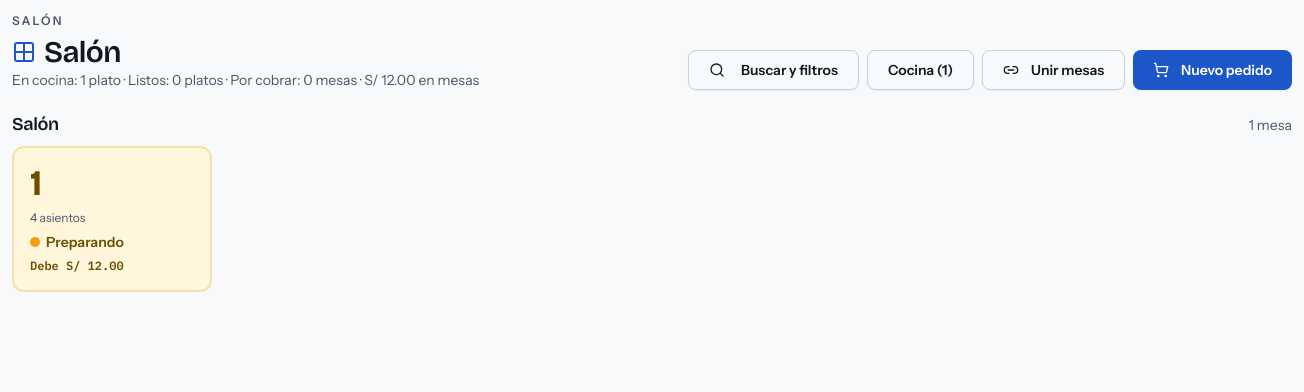
Test: pedido por personas en el salón › ordena el compositor como trabaja el mozo: persona y recién la carta
Click the element with test id "mesa-card-1".
click(112, 219)  # box [12, 146, 212, 292]
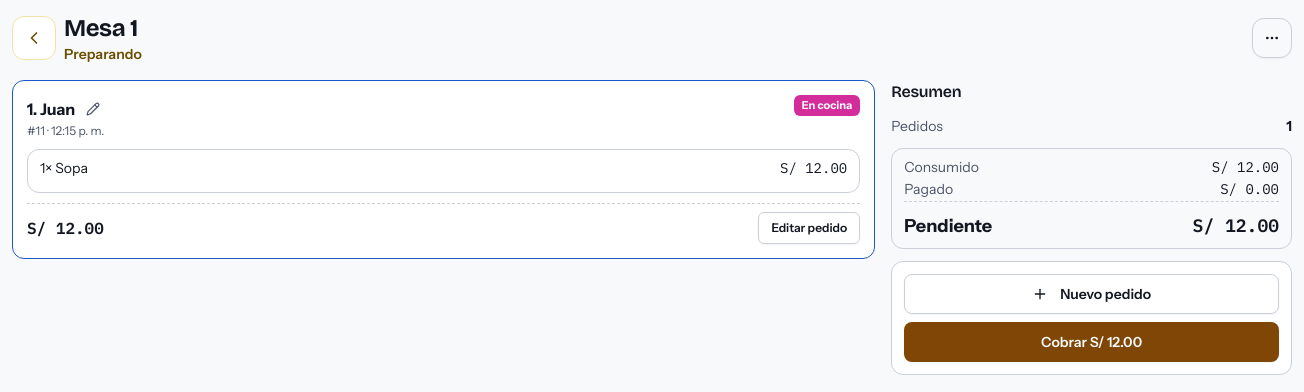
Click the button with test id "mesa-sheet-nuevo-pedido".
click(1092, 294)  # box [904, 274, 1279, 314]
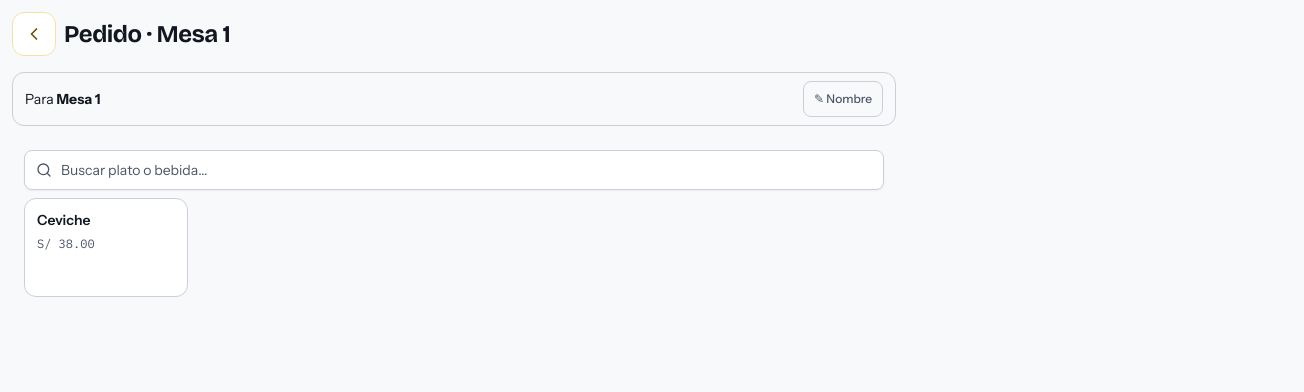
Check: the element with test id "mesa-sheet-persona" is shown, box [12, 72, 896, 126]
Check: the element with test id "mesa-sheet-pedido" is shown, box [12, 138, 896, 309]
